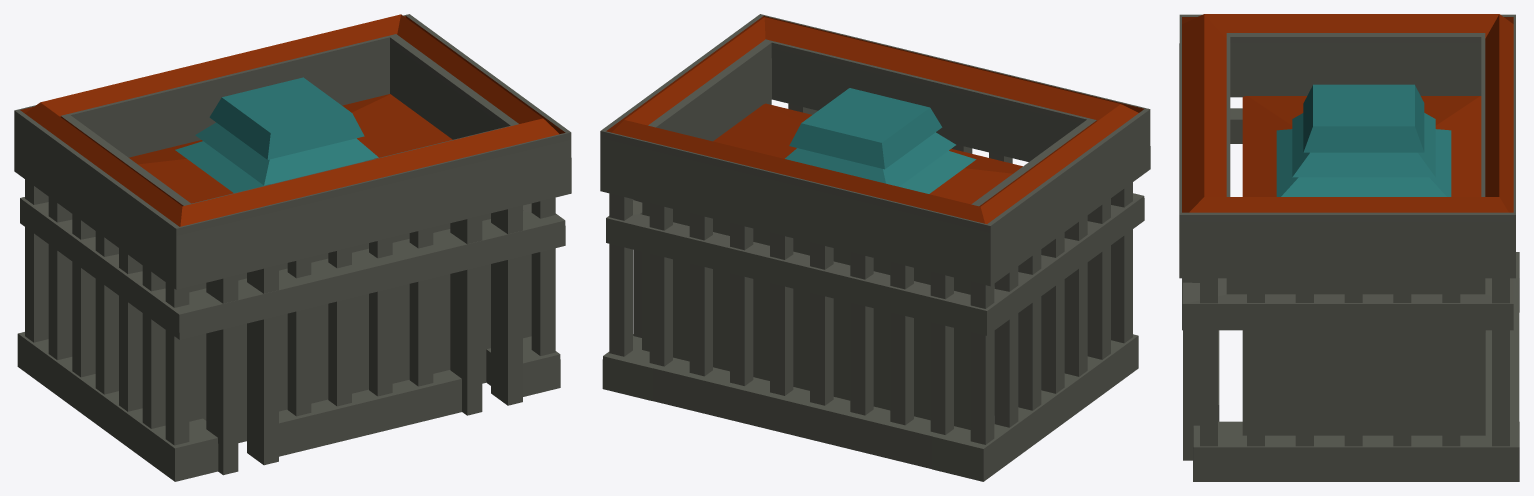
File: bank.fbx
3 views of the same model, side by side, from view 1: azimuth 30°, elevation 25°; view 2: azimuth 150°, elevation 25°; view 3: azimuth 270°, elevation 25° (orthographic). The views are drawn at different scales.
Visible parts, largest first — view 1: Cube; view 2: Cube; view 3: Cube.
Part boxes in pixels (left/top/right/bottom): Cube: left=14, top=14, right=571, bottom=481; Cube: left=600, top=14, right=1150, bottom=481; Cube: left=1179, top=14, right=1519, bottom=481.
Size of the model in its own units: 727 by 474 by 523.
